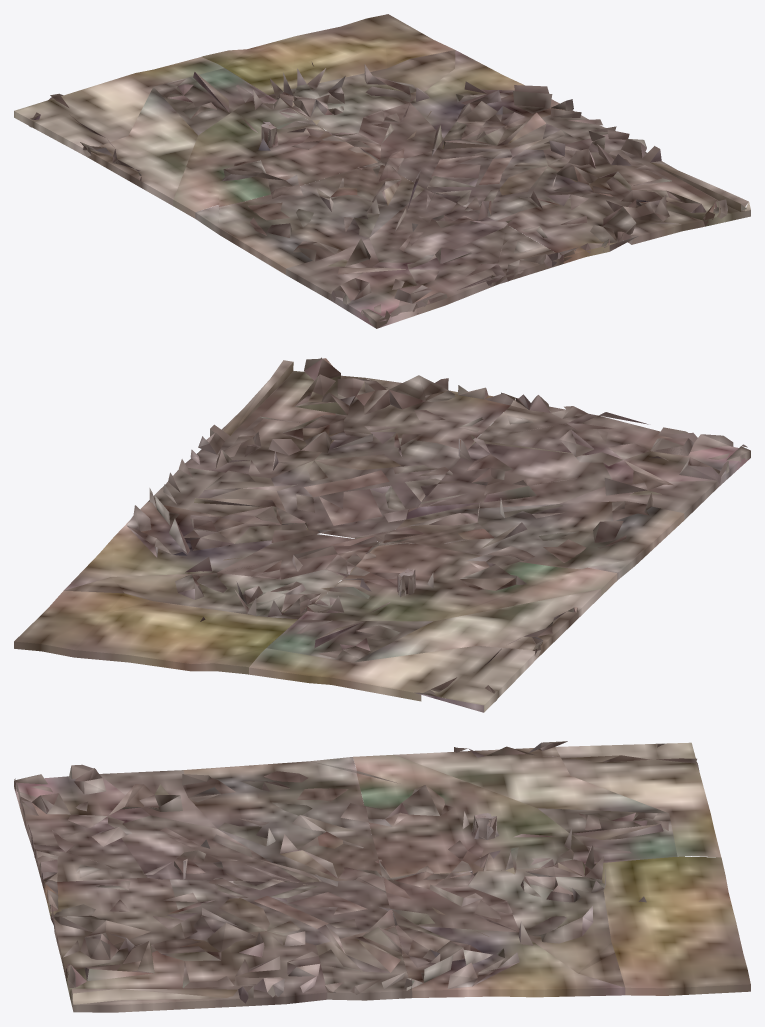
3 renders of one model, top to bottom at view 1: azimuth 30°, elevation 25°; view 2: azimuth 150°, elevation 25°; view 3: azimuth 270°, elevation 25°, orthographic. The views are drawn at different scales.
Parts seen in each view (by area): view 1: Mesh_0; view 2: Mesh_0; view 3: Mesh_0.
Part boxes in pixels (x1,y1,x2,y2): Mesh_0: (14, 14, 750, 328); Mesh_0: (14, 357, 750, 712); Mesh_0: (14, 741, 750, 1012).
Bounding box in the file's own units: 1065 × 94 × 1318.
Materials: 1 (1 with a texture image).
